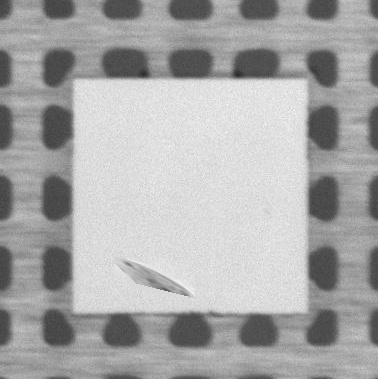DIE_INK: (111, 256, 196, 300)
